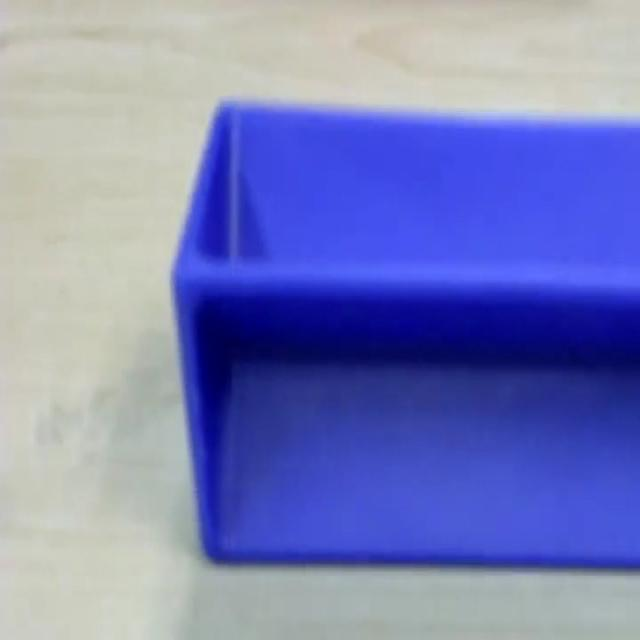blue_block: (171, 95, 638, 569)
